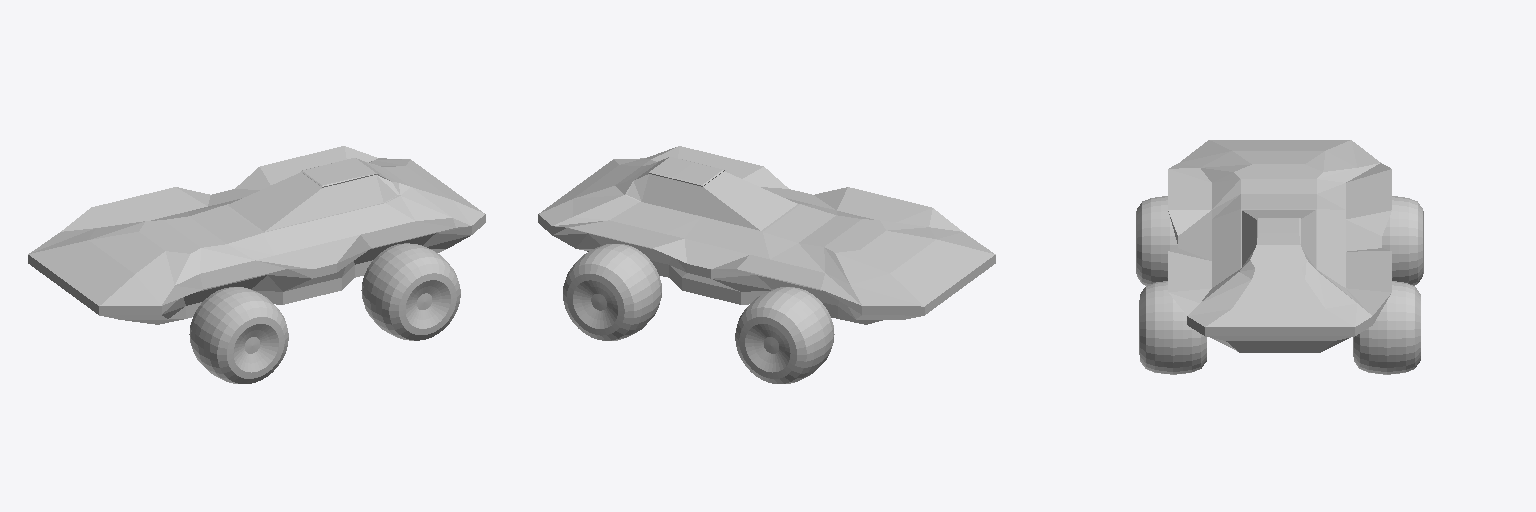
File: Car.obj
The picture shows the model from 3 angles: view 1: azimuth 30°, elevation 25°; view 2: azimuth 150°, elevation 25°; view 3: azimuth 270°, elevation 25°; orthographic projection.
Visible parts, largest first — view 1: Car_Plane.001, Wheel_-_Rear_Left_Sphere.003, Wheel_-_Front_Left_Sphere; view 2: Car_Plane.001, Wheel_-_Rear_Right_Sphere.002, Wheel_-_Front_Right_Sphere.001; view 3: Car_Plane.001, Wheel_-_Rear_Left_Sphere.003, Wheel_-_Rear_Right_Sphere.002, Wheel_-_Front_Right_Sphere.001, Wheel_-_Front_Left_Sphere.
Boxes of the visible parts, x1=… form: Car_Plane.001: x1=28, y1=146, x2=485, y2=324; Wheel_-_Rear_Left_Sphere.003: x1=361, y1=243, x2=460, y2=340; Wheel_-_Front_Left_Sphere: x1=189, y1=287, x2=288, y2=383; Car_Plane.001: x1=538, y1=146, x2=995, y2=324; Wheel_-_Rear_Right_Sphere.002: x1=563, y1=244, x2=661, y2=340; Wheel_-_Front_Right_Sphere.001: x1=735, y1=287, x2=834, y2=383; Car_Plane.001: x1=1168, y1=140, x2=1391, y2=352; Wheel_-_Rear_Left_Sphere.003: x1=1139, y1=281, x2=1206, y2=374; Wheel_-_Rear_Right_Sphere.002: x1=1353, y1=281, x2=1420, y2=374; Wheel_-_Front_Right_Sphere.001: x1=1382, y1=196, x2=1423, y2=285; Wheel_-_Front_Left_Sphere: x1=1136, y1=196, x2=1177, y2=285.
Bounding box in the file's own units: 17.39 × 5.6 × 11.28.